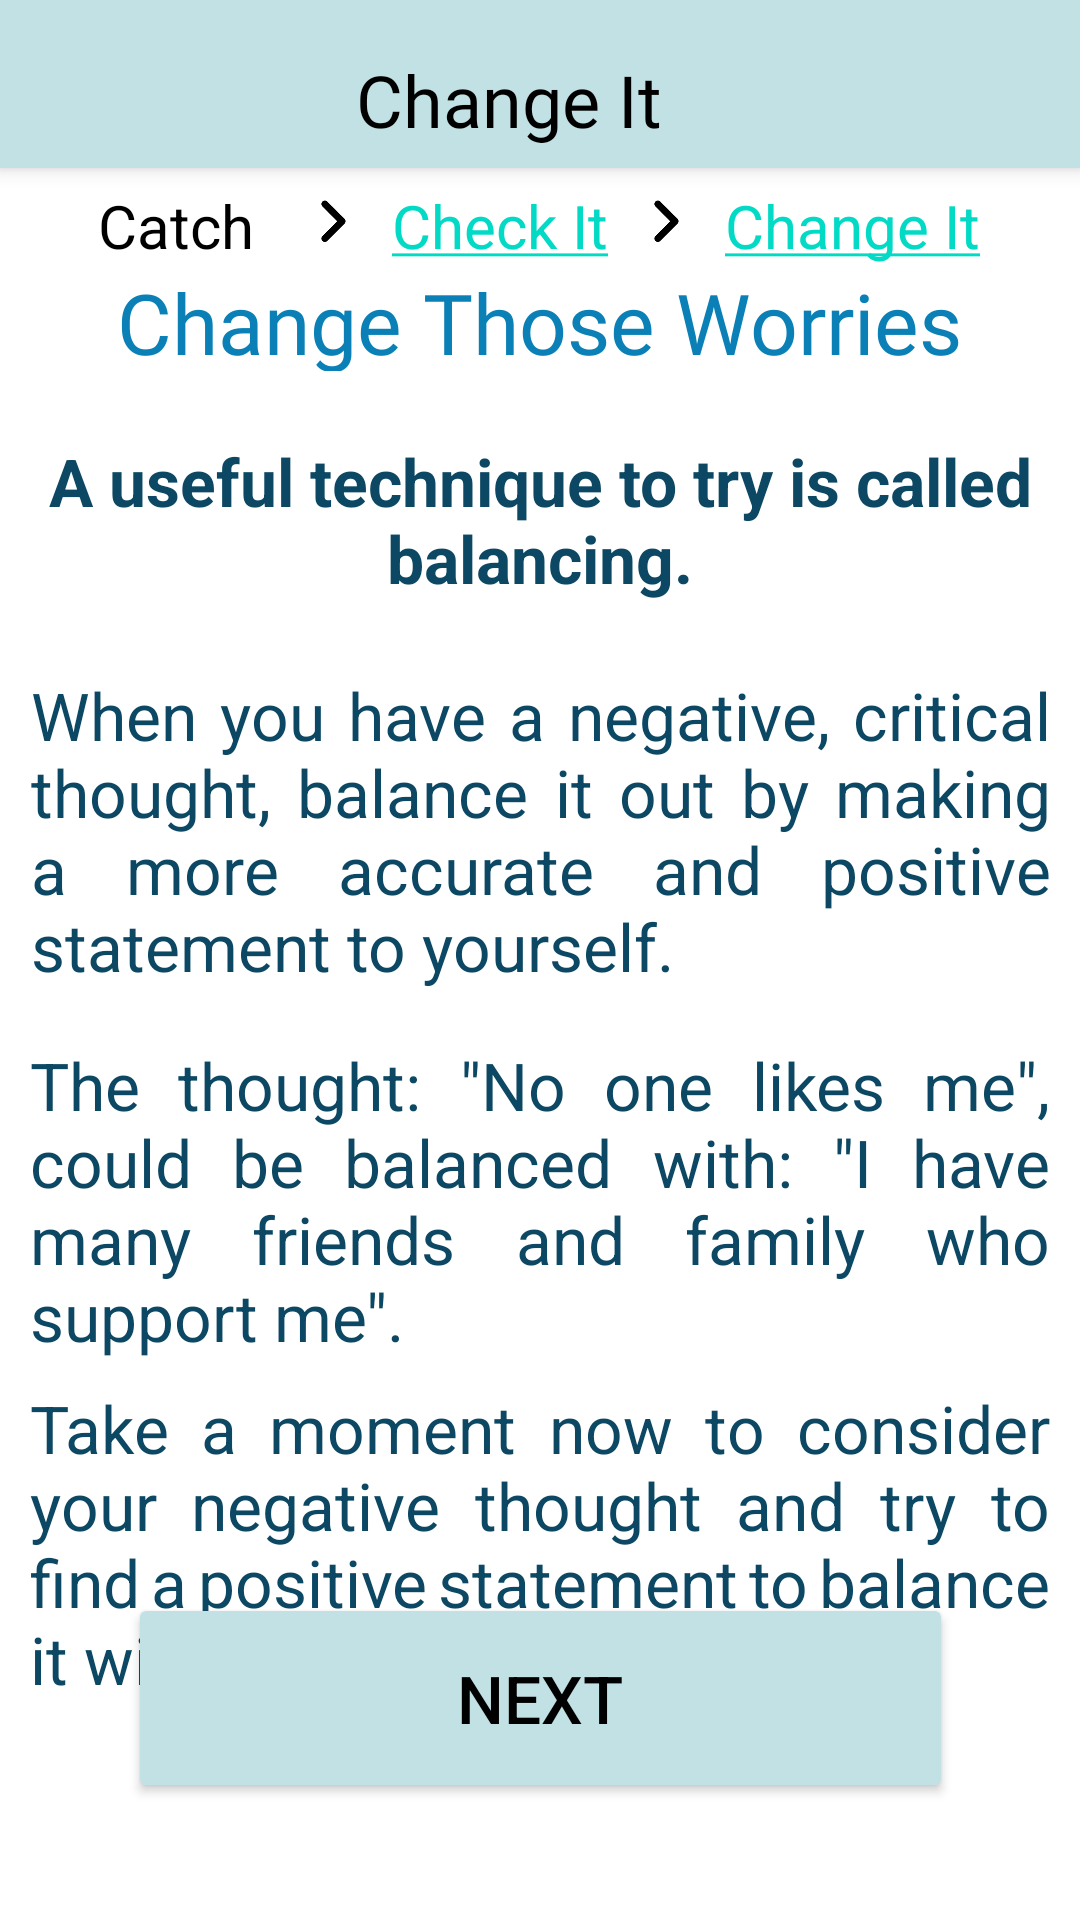

Named icons in this screenshot (1080 x 1920) and their centers, (x=x, y=y):
right: (x=333, y=221), (x=666, y=221)
